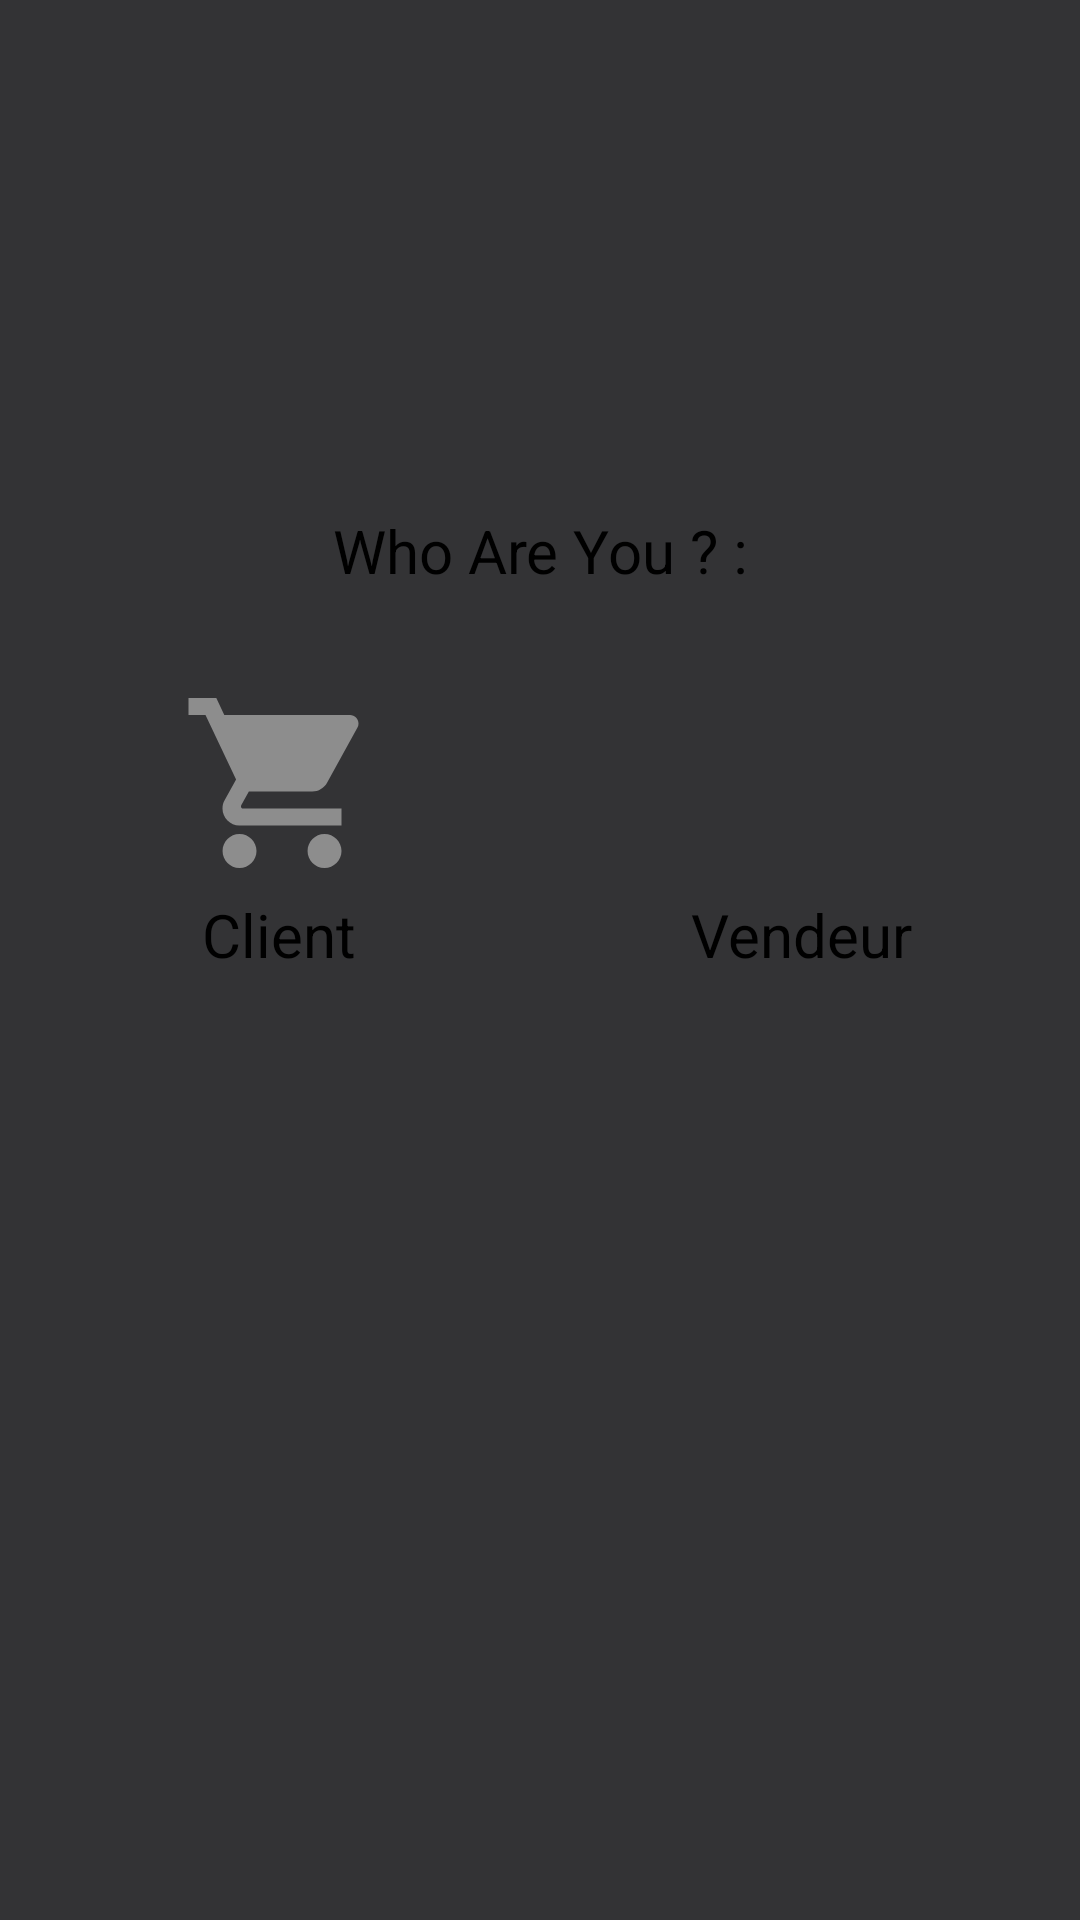

Named icons in this screenshot (1080*1920) and their bounding boxes, {"left": x1, "top": y1, "right": x2, "bottom": y2}:
buy: {"left": 188, "top": 698, "right": 359, "bottom": 868}
